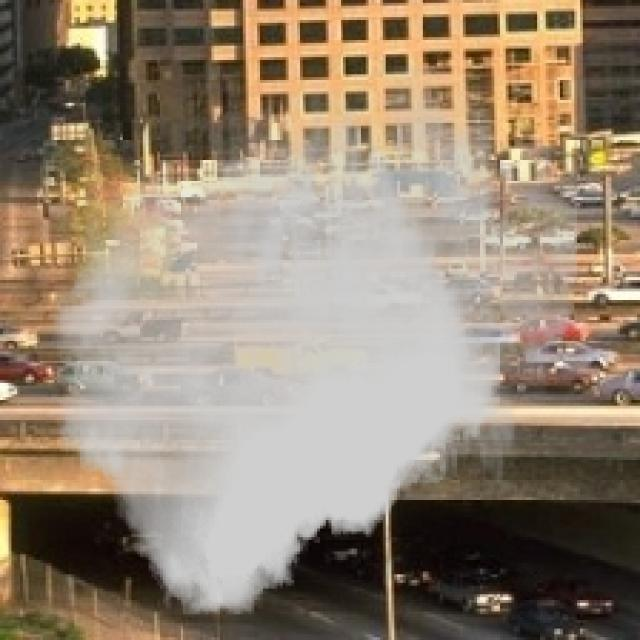smoke: (52, 66, 577, 614)
